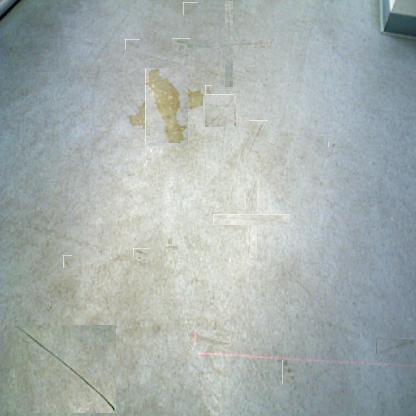liquid: (136, 77, 197, 138), (204, 86, 212, 94)
mark: (18, 325, 118, 413), (206, 20, 252, 68), (230, 198, 273, 241), (204, 95, 235, 127), (196, 324, 224, 352), (246, 123, 271, 149), (376, 338, 414, 354), (282, 360, 295, 384), (184, 1, 198, 16), (135, 246, 148, 259), (125, 39, 140, 50), (175, 36, 188, 48), (163, 241, 175, 253), (62, 256, 73, 267), (329, 141, 337, 148), (48, 302, 52, 310)
